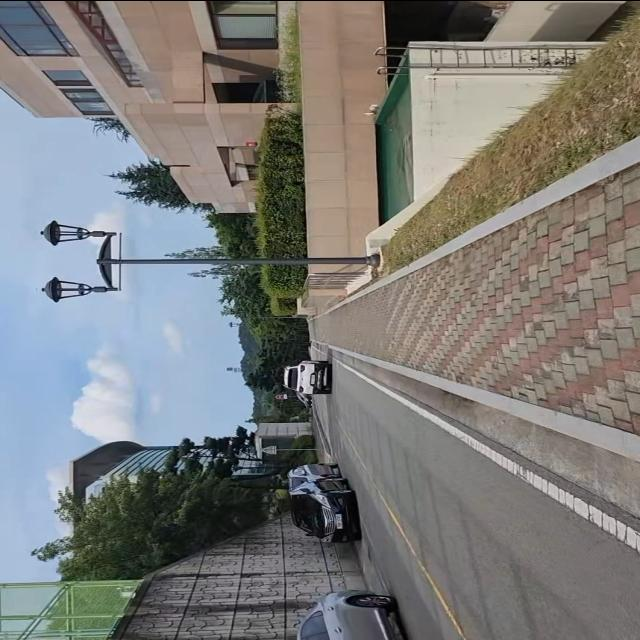obstacle: (36, 220, 387, 311), (277, 456, 367, 546), (285, 583, 427, 640), (278, 352, 336, 399)
road: (312, 340, 640, 640)
sidewalk: (307, 137, 640, 463)
